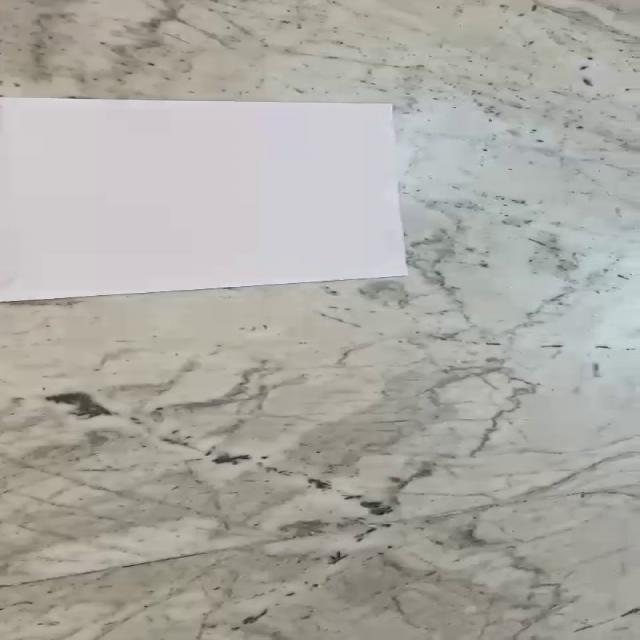road: (0, 97, 407, 303)
